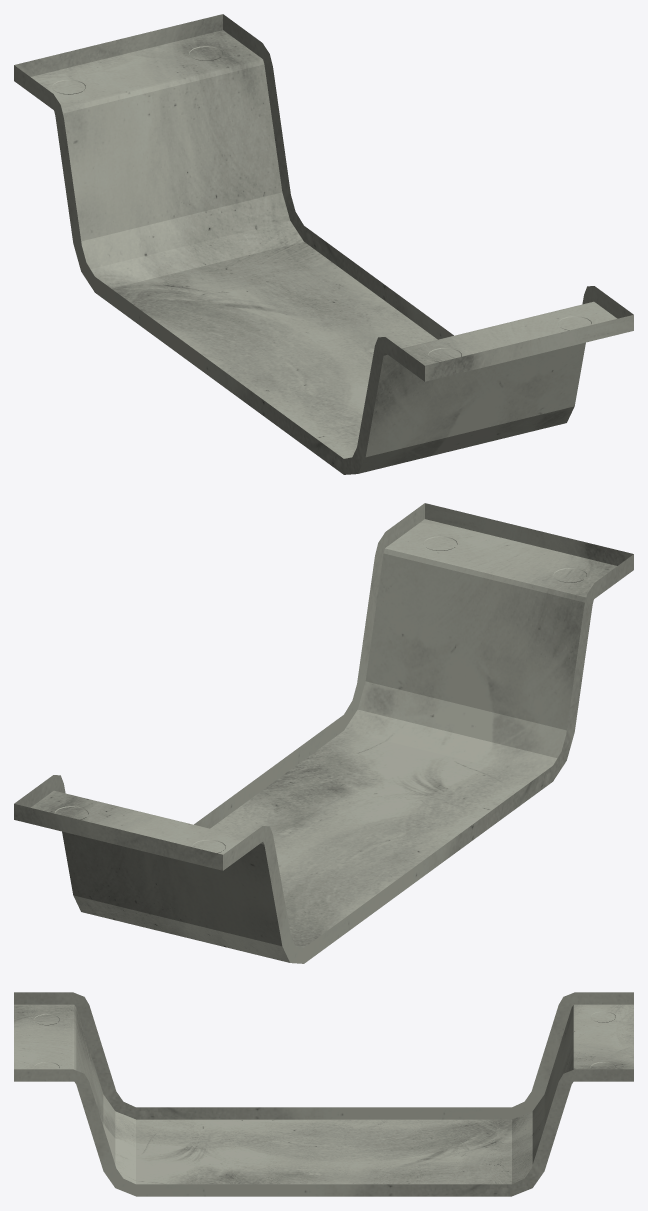
The model's file is pipe_holder_01.fbx.
The picture shows the model from 3 angles, top to bottom: view 1: azimuth 30°, elevation 25°; view 2: azimuth 150°, elevation 25°; view 3: azimuth 270°, elevation 25°; orthographic projection. The views are drawn at different scales.
Parts seen in each view (by area): view 1: Box084; view 2: Box084; view 3: Box084.
Part boxes in pixels (<box>): Box084: <box>14,14,633,474</box>; Box084: <box>14,503,633,963</box>; Box084: <box>14,992,633,1196</box>.
Bounding box in the file's own units: 14.01 × 10.78 × 47.68.
